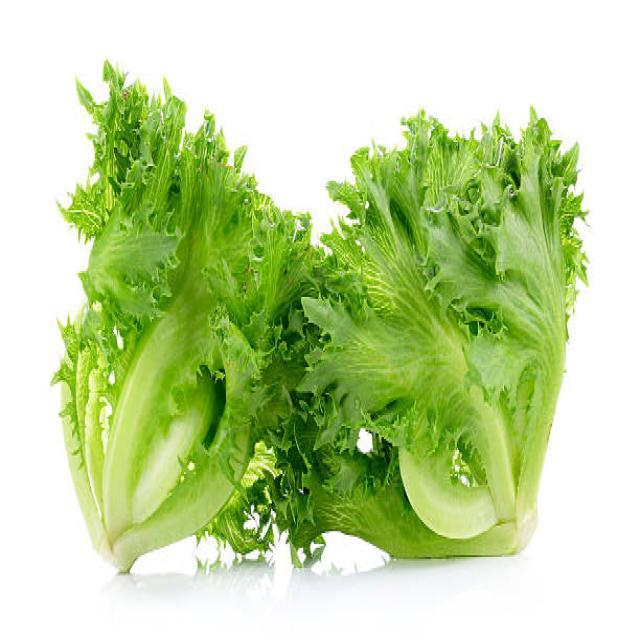Lettuce-Ready-to-Harvest: (264, 113, 586, 569), (54, 63, 311, 576)
